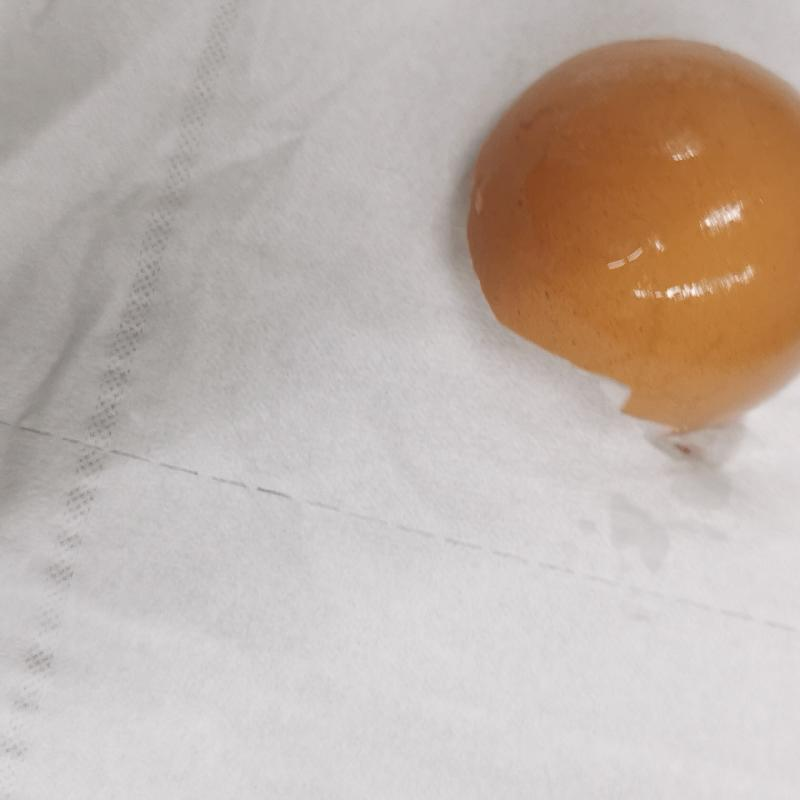eggshell: (469, 32, 800, 433)
